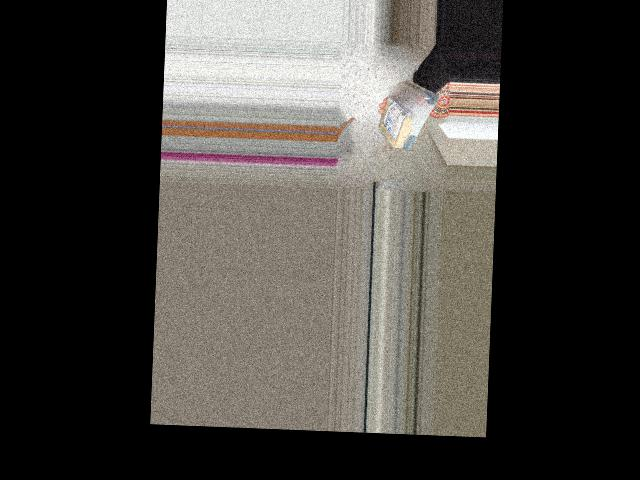cheese: (376, 68, 438, 155)
